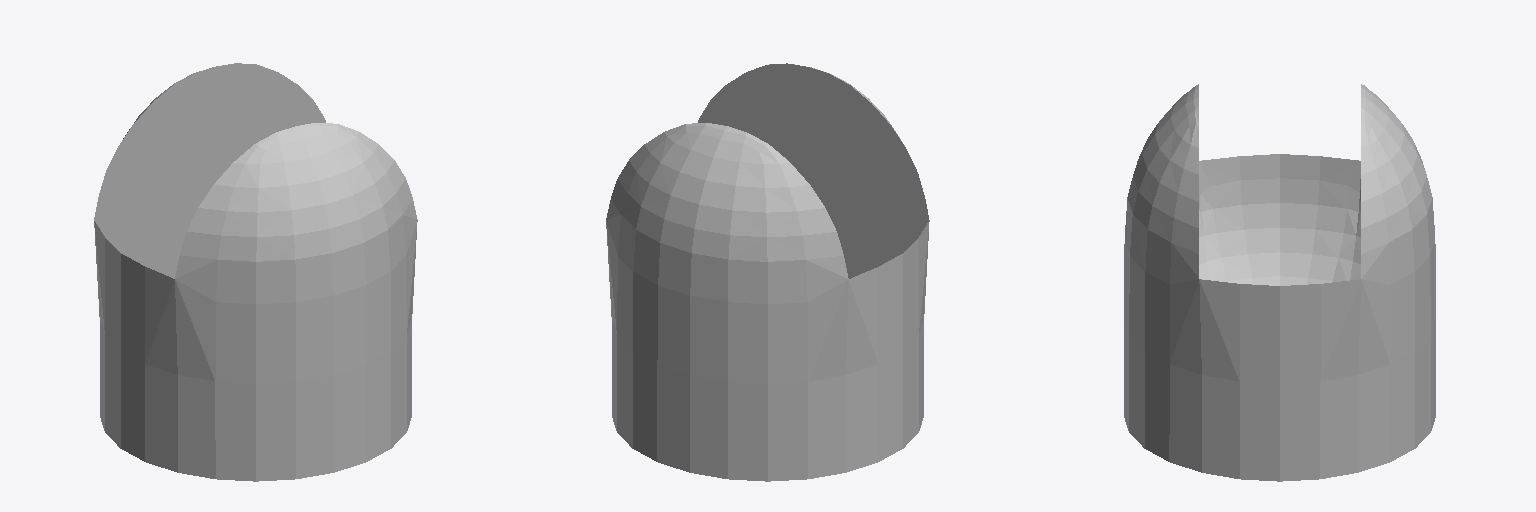
Rendered from Tr-LeverBaseZY.obj.
3 views of the same model, side by side, from view 1: azimuth 30°, elevation 25°; view 2: azimuth 150°, elevation 25°; view 3: azimuth 270°, elevation 25° (orthographic).
Visible parts, largest first — view 1: Tr-LeverBaseZY_BaseLevier.004_BaseLevier.008; view 2: Tr-LeverBaseZY_BaseLevier.004_BaseLevier.008; view 3: Tr-LeverBaseZY_BaseLevier.004_BaseLevier.008.
Boxes of the visible parts, x1,y1,x2,y2 form: Tr-LeverBaseZY_BaseLevier.004_BaseLevier.008: [94, 63, 417, 481]; Tr-LeverBaseZY_BaseLevier.004_BaseLevier.008: [606, 63, 929, 481]; Tr-LeverBaseZY_BaseLevier.004_BaseLevier.008: [1124, 84, 1435, 481].
Bounding box in the file's own units: 0.0725 × 0.0816 × 0.0725.